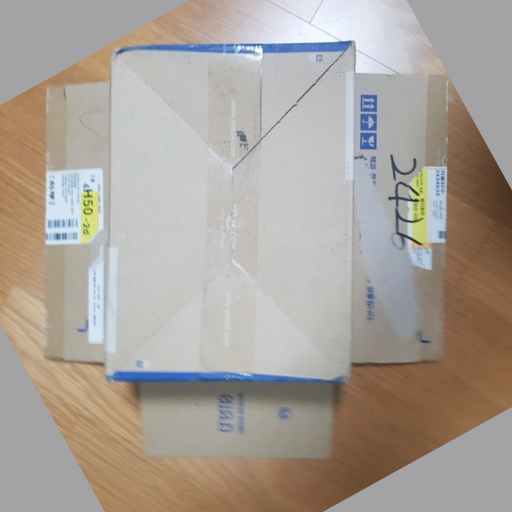Paper_0: (40, 40, 449, 464)
